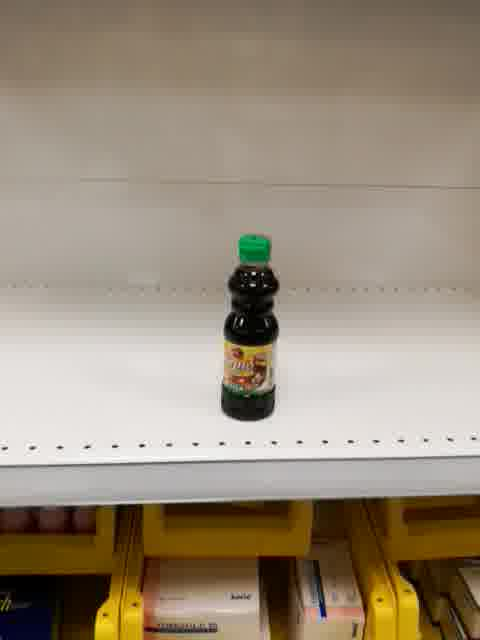cookingoil: (216, 230, 282, 426)
